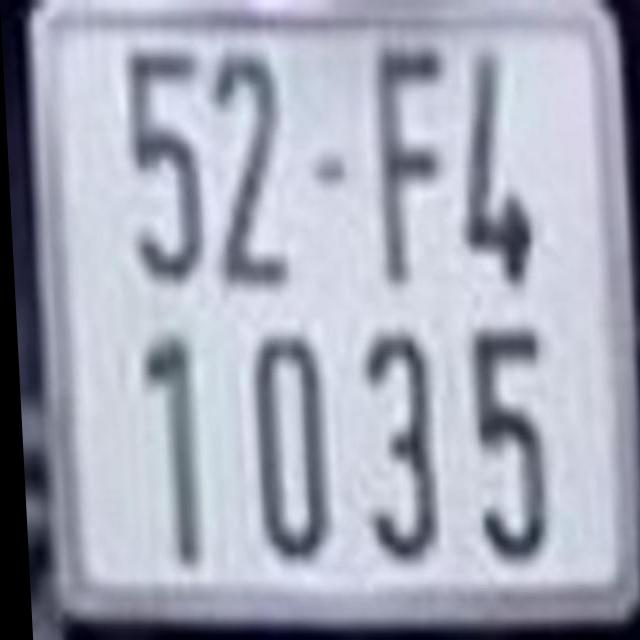0: (254, 332, 328, 556)
1: (142, 338, 198, 560)
2: (205, 55, 290, 280)
3: (362, 332, 434, 558)
4: (455, 54, 531, 286)
5: (466, 332, 551, 566), (125, 50, 205, 285)
F: (371, 44, 454, 290)
